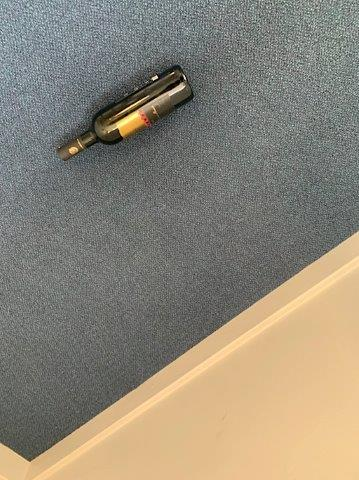botolkaca: (56, 64, 194, 164)
